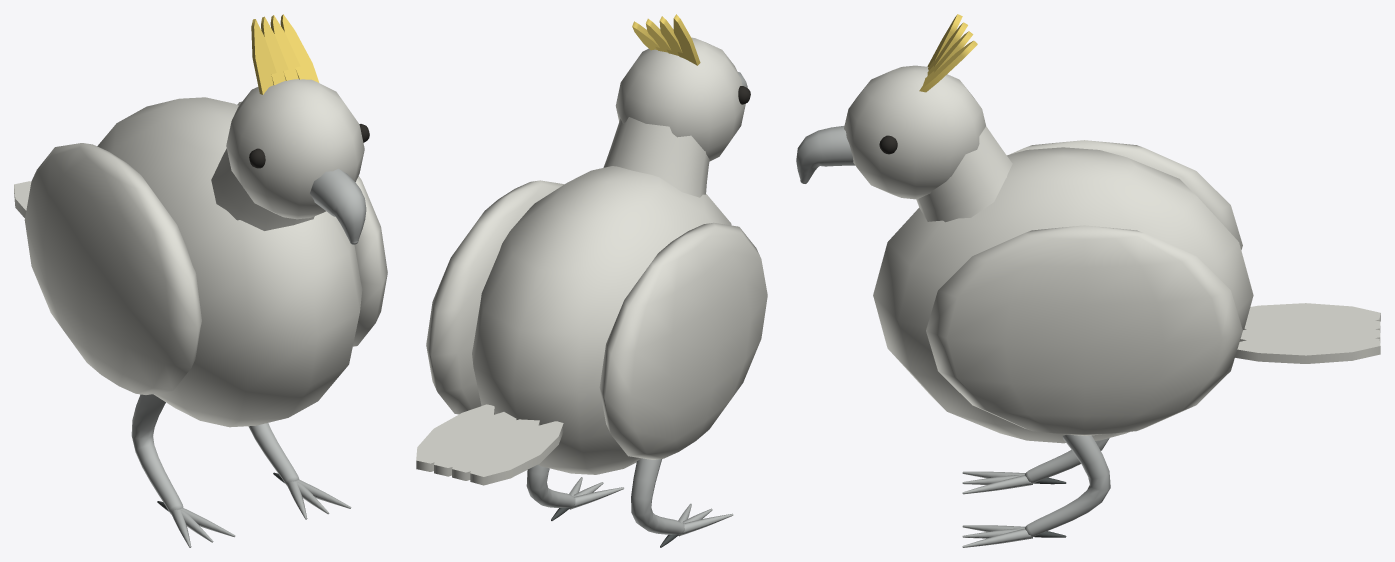
Rendered from birds-and-flying-creatures-cockatoo-e3277eed__20627.glb.
3 views of the same model, side by side, from view 1: azimuth 30°, elevation 25°; view 2: azimuth 150°, elevation 25°; view 3: azimuth 270°, elevation 25° (orthographic). The views are drawn at different scales.
Parts seen in each view (by area): view 1: cockatoo; view 2: cockatoo; view 3: cockatoo.
Part boxes in pixels (x1,y1,x2,y2): cockatoo: [14, 14, 387, 547]; cockatoo: [416, 14, 767, 547]; cockatoo: [796, 14, 1380, 547].
Bounding box in the file's own units: 0.2244 × 0.4392 × 0.4753.
